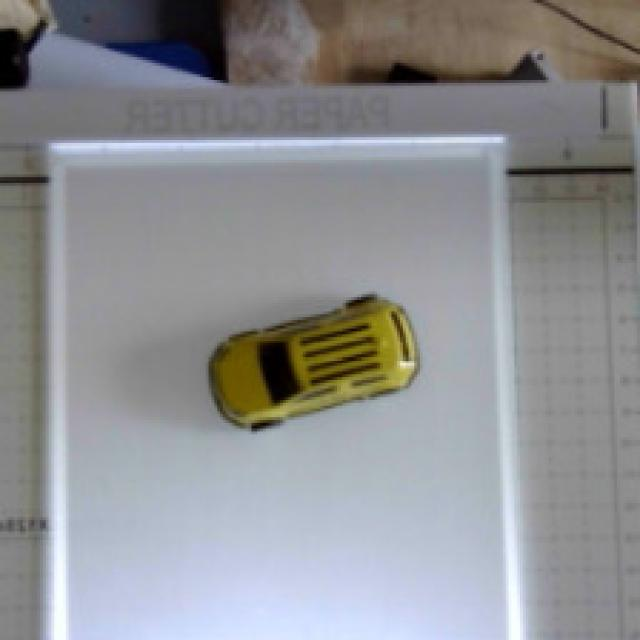Yellow Car: (169, 253, 434, 466)
